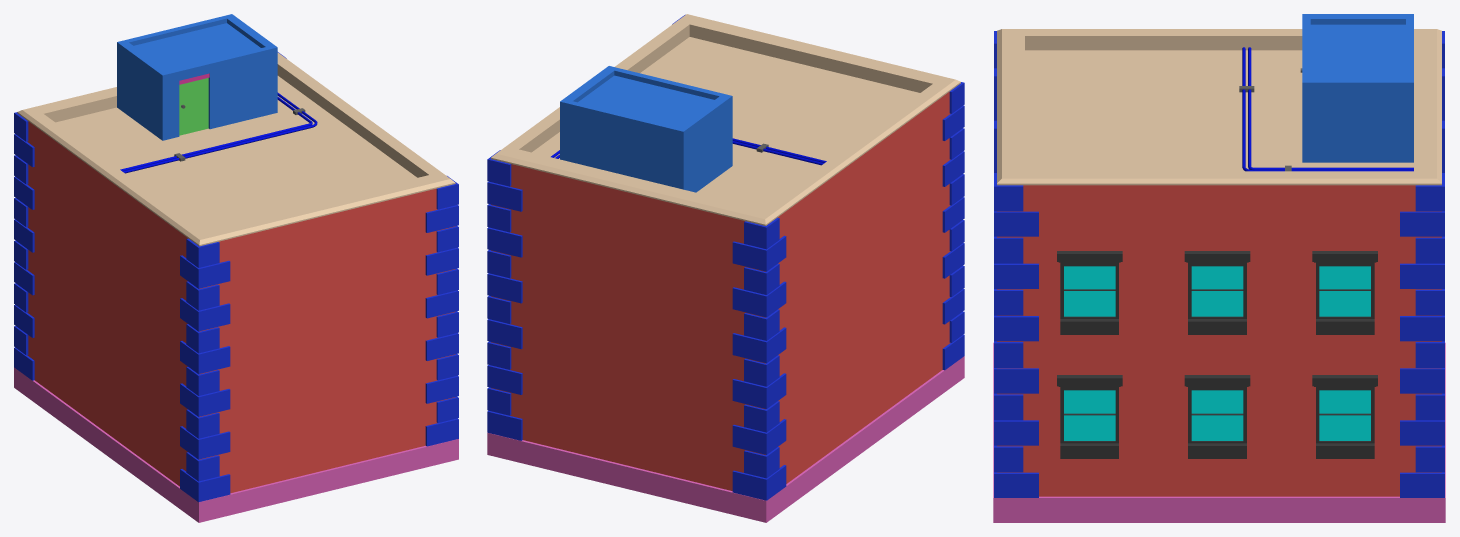
Rendered from building_13.fbx.
The picture shows the model from 3 angles, left to right: view 1: azimuth 30°, elevation 25°; view 2: azimuth 150°, elevation 25°; view 3: azimuth 270°, elevation 25°; orthographic projection. The views are drawn at different scales.
Parts seen in each view (by area): view 1: Cube.184; view 2: Cube.184; view 3: Cube.184.
Boxes of the visible parts, bbox=[...] form: Cube.184: bbox=[14, 14, 458, 522]; Cube.184: bbox=[487, 14, 964, 522]; Cube.184: bbox=[993, 14, 1445, 522].
Size of the model in its own units: 1131 by 1360 by 1368.
